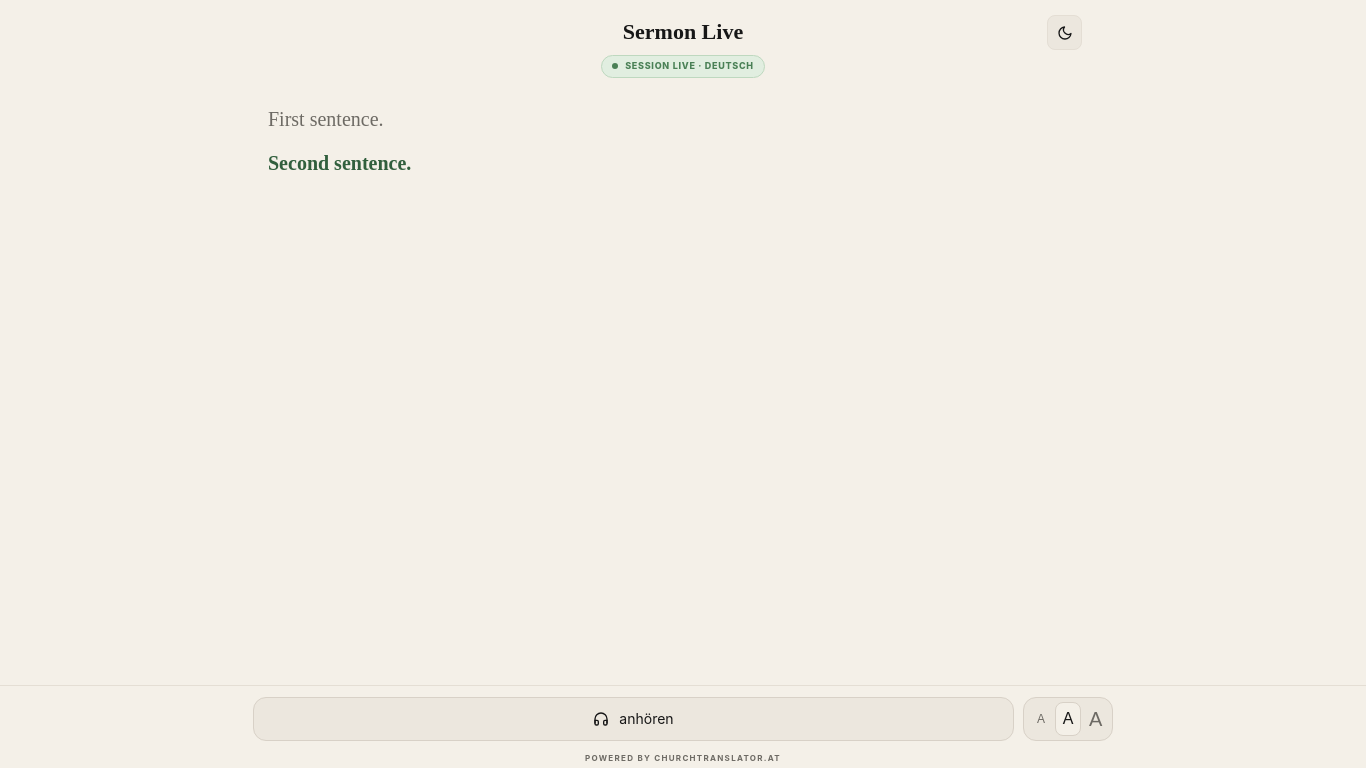
Test case: Listener experience › preserves transcript and stops audio when the broadcast ends
Click the button with aria-label "Start listening" at (634, 719), box x1=253 y1=697 x2=1014 y2=741
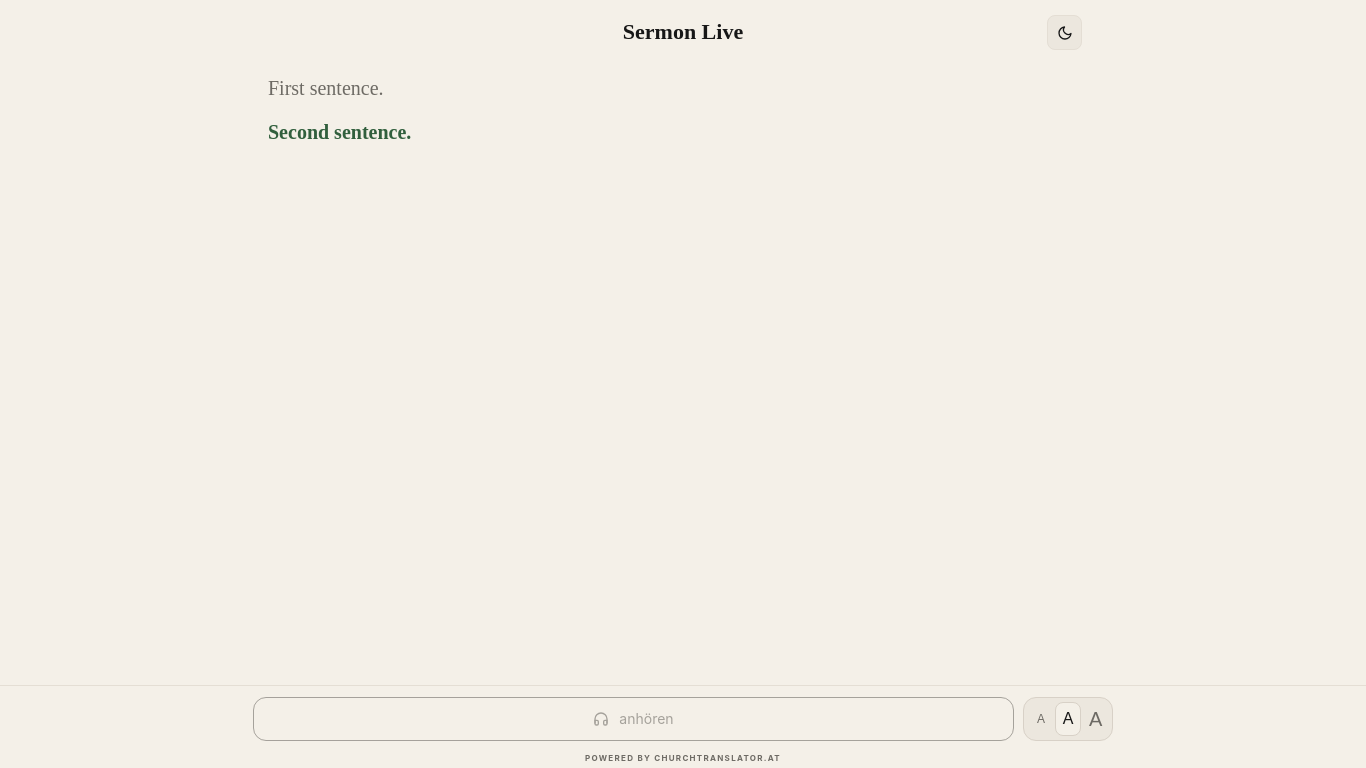
Expected: the text "First sentence." is shown, x1=268 y1=77 x2=384 y2=99
Expected: the button named "Start listening" is disabled, x1=253 y1=697 x2=1014 y2=741
